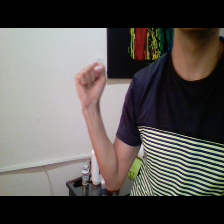9D: (70, 57, 110, 109)
